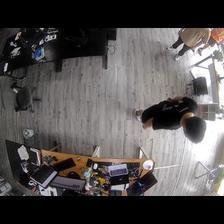normal: (135, 95, 205, 143)
